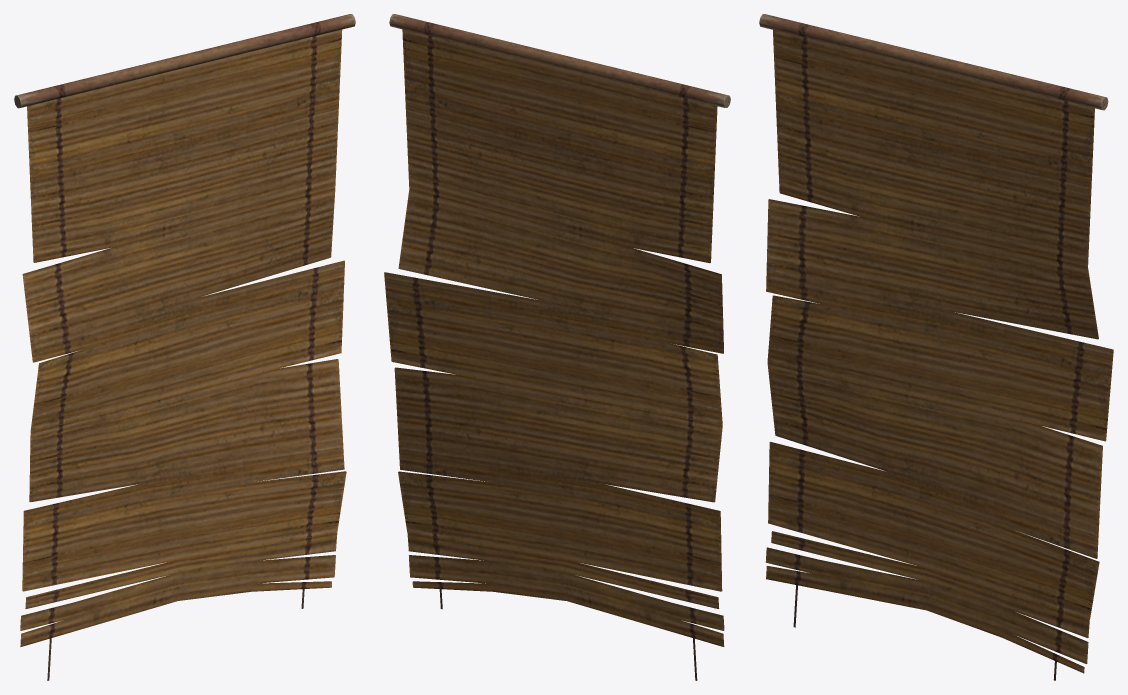
The model's file is i_zx_zhuxi01_02.FBX.
The picture shows the model from 3 angles, left to right: view 1: azimuth 30°, elevation 25°; view 2: azimuth 150°, elevation 25°; view 3: azimuth 330°, elevation 25°; orthographic projection. The views are drawn at different scales.
Parts seen in each view (by area): view 1: i_zx_zhuxi01_02; view 2: i_zx_zhuxi01_02; view 3: i_zx_zhuxi01_02.
Boxes of the visible parts, x1,y1,x2,y2 form: i_zx_zhuxi01_02: [14, 14, 355, 680]; i_zx_zhuxi01_02: [384, 14, 730, 680]; i_zx_zhuxi01_02: [759, 14, 1113, 680].
Bounding box in the file's own units: 2.28 × 3.86 × 0.1714.
